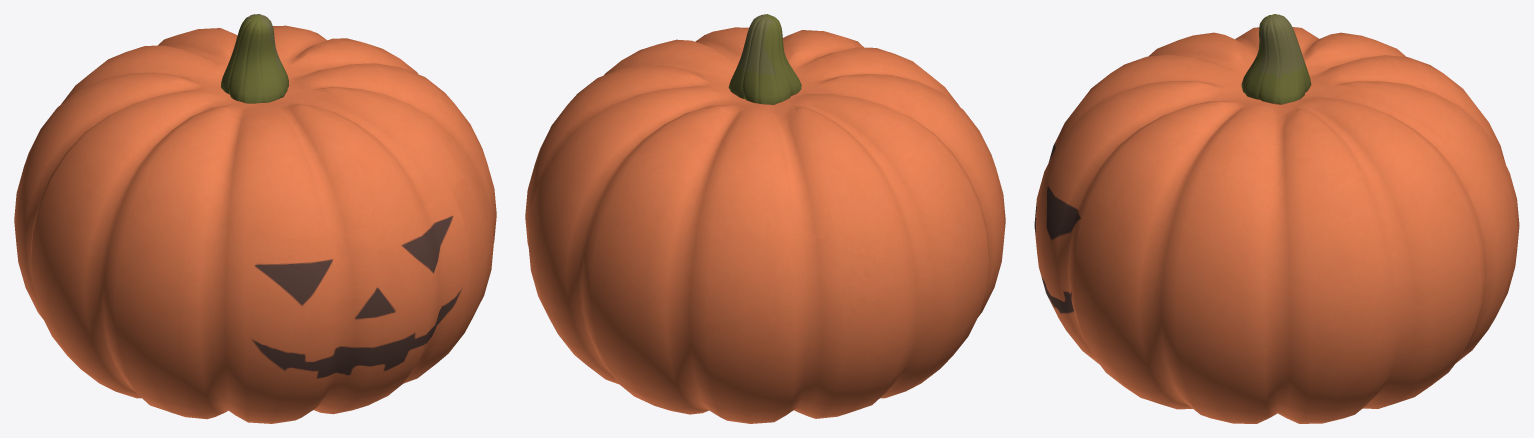
File: ac-pumpkin2.glb
3 views of the same model, side by side, from view 1: azimuth 30°, elevation 25°; view 2: azimuth 150°, elevation 25°; view 3: azimuth 270°, elevation 25° (orthographic).
Parts seen in each view (by area): view 1: Object_2; view 2: Object_2; view 3: Object_2.
Boxes of the visible parts, x1,y1,x2,y2 form: Object_2: [14, 14, 496, 423]; Object_2: [525, 14, 1005, 423]; Object_2: [1034, 14, 1519, 423].
Bounding box in the file's own units: 1.89 × 1.54 × 1.89.
Materials: 1 (1 with a texture image).
